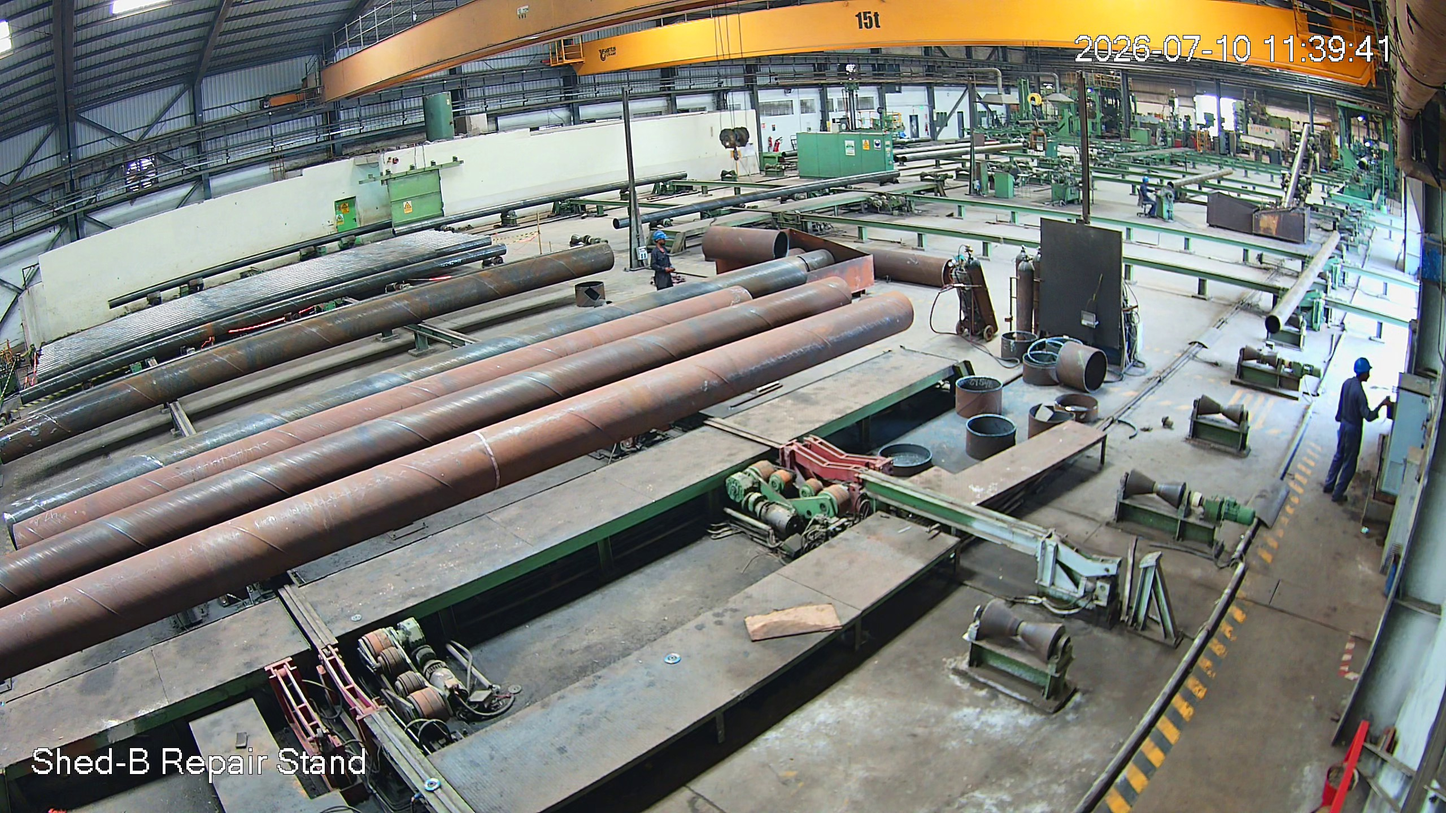Helmet: (1336, 347, 1378, 403), (650, 224, 669, 258), (1139, 171, 1155, 195)
Person: (1331, 352, 1381, 510), (645, 228, 678, 294), (1135, 173, 1159, 220)
